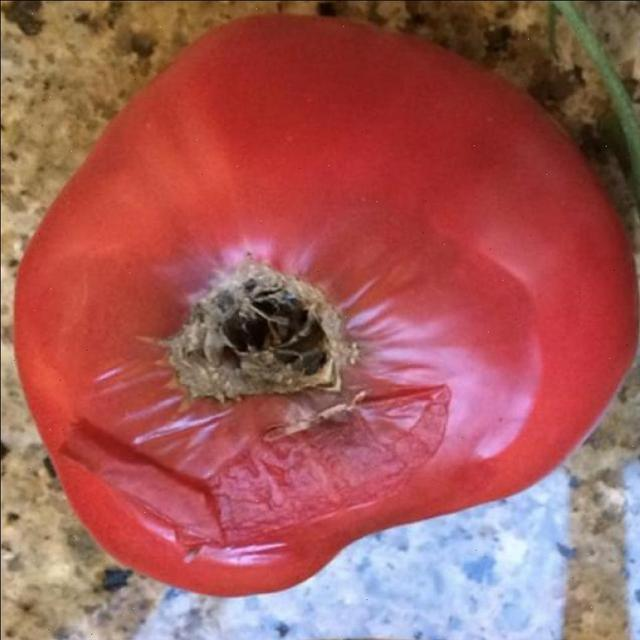Blossom End Rot Fruit: (91, 165, 246, 299)
